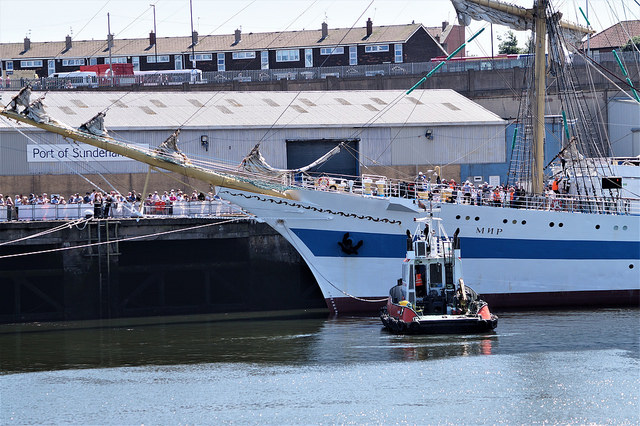boat: (277, 27, 629, 314)
tug_boat: (381, 181, 510, 336)
